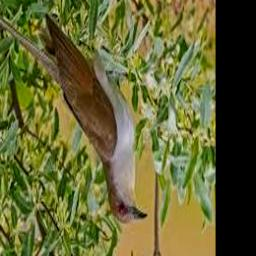Cuckoo: (0, 0, 149, 224)
